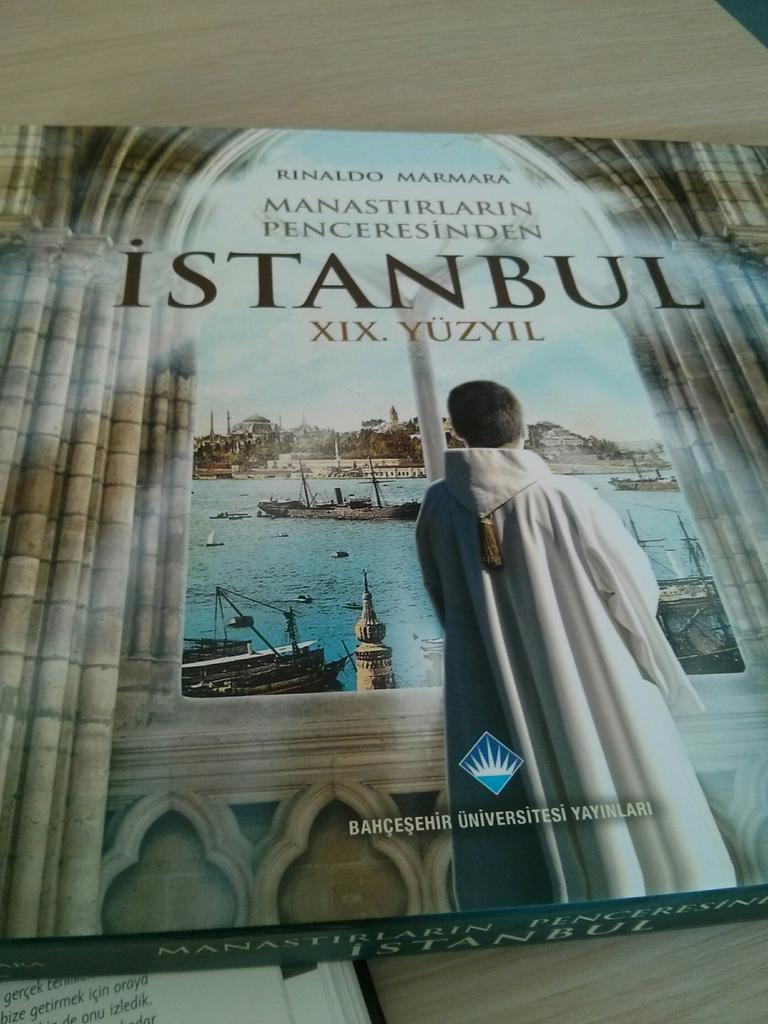Chair: (414, 449, 739, 911)
